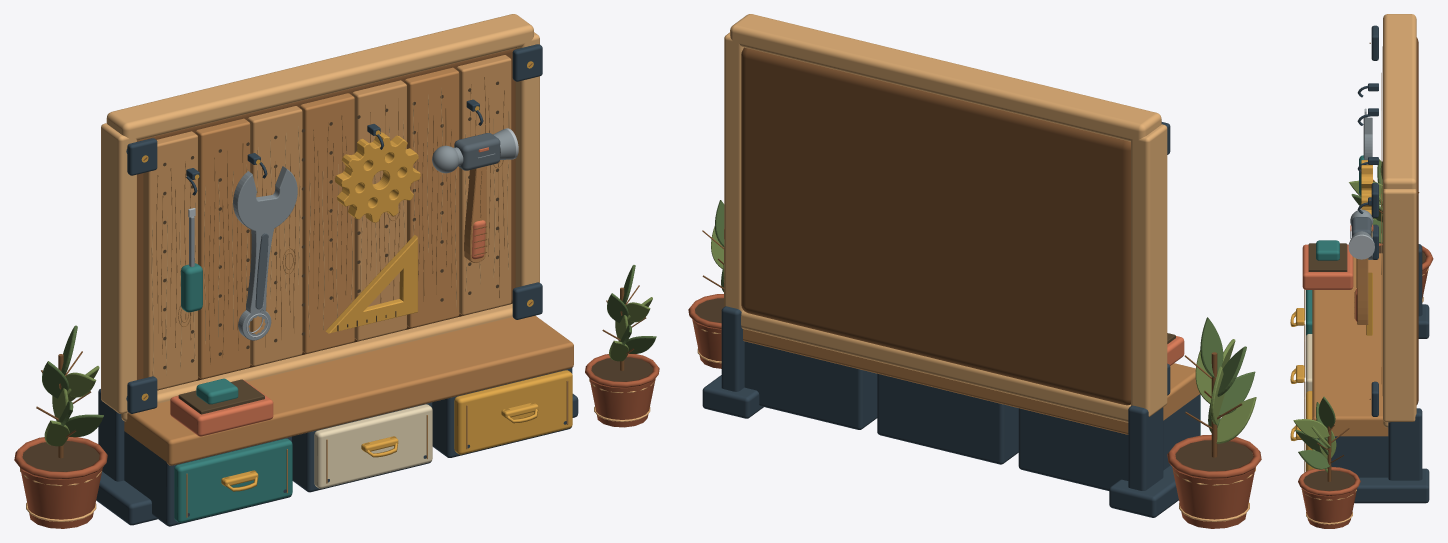
Rendered from workshop-tool-rack-high.glb.
The picture shows the model from 3 angles, left to right: view 1: azimuth 30°, elevation 25°; view 2: azimuth 150°, elevation 25°; view 3: azimuth 270°, elevation 25°; orthographic projection. The views are drawn at different scales.
Visible parts, largest first — view 1: timber, plank, edge, brass, navy, teal, pot, cream, grain, steel, darkWood, grainLight (+6 smaller); view 2: darkWood, edge, navy, pot, timber, leaf, leafLight, soil; view 3: edge, timber, navy, pot, brass, leaf, darkWood, coral, leafLight, teal, soil, shadow (+6 smaller).
Part boxes in pixels (x1,y1,x2,y2): timber: [124, 67, 573, 465]; plank: [143, 55, 511, 389]; edge: [20, 14, 654, 521]; brass: [141, 61, 572, 491]; navy: [96, 44, 578, 526]; teal: [174, 263, 292, 522]; pot: [14, 353, 659, 528]; cream: [314, 404, 432, 488]; grain: [156, 77, 568, 517]; steel: [189, 129, 515, 340]; darkWood: [36, 48, 646, 458]; grainLight: [151, 88, 509, 375]; darkWood: [702, 47, 1242, 457]; edge: [693, 14, 1255, 521]; navy: [702, 122, 1200, 517]; pot: [688, 294, 1261, 528]; timber: [743, 329, 1200, 434]; leaf: [715, 200, 1255, 432]; leafLight: [711, 226, 1256, 443]; soil: [695, 298, 1253, 471]; edge: [1302, 14, 1428, 524]; timber: [1312, 68, 1388, 436]; navy: [1317, 25, 1429, 503]; pot: [1298, 243, 1433, 528]; brass: [1290, 160, 1372, 471]; leaf: [1295, 159, 1382, 469]; darkWood: [1312, 37, 1419, 481]; coral: [1302, 225, 1373, 321]; leafLight: [1293, 180, 1382, 472]; teal: [1306, 155, 1364, 335]; soil: [1303, 245, 1426, 490]; shadow: [1308, 243, 1347, 271].
Size of the model in its own units: 2.04 by 1.25 by 0.5082.
